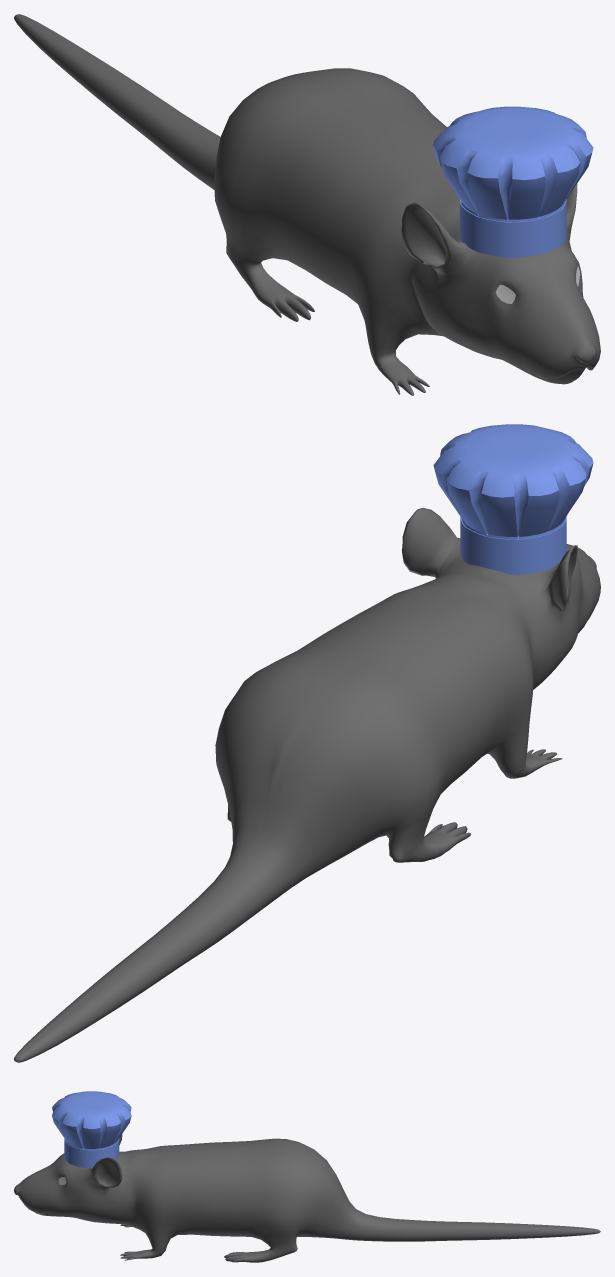
The model's file is RemyChef.fbx.
The picture shows the model from 3 angles, top to bottom: view 1: azimuth 30°, elevation 25°; view 2: azimuth 150°, elevation 25°; view 3: azimuth 270°, elevation 25°; orthographic projection. The views are drawn at different scales.
Visible parts, largest first — view 1: chef_hat; view 2: chef_hat; view 3: chef_hat.
Part boxes in pixels (x1,y1,x2,y2): chef_hat: [14, 14, 600, 395]; chef_hat: [14, 424, 600, 1062]; chef_hat: [14, 1091, 600, 1262].
Size of the model in its own units: 12.8 by 16 by 61.47.
